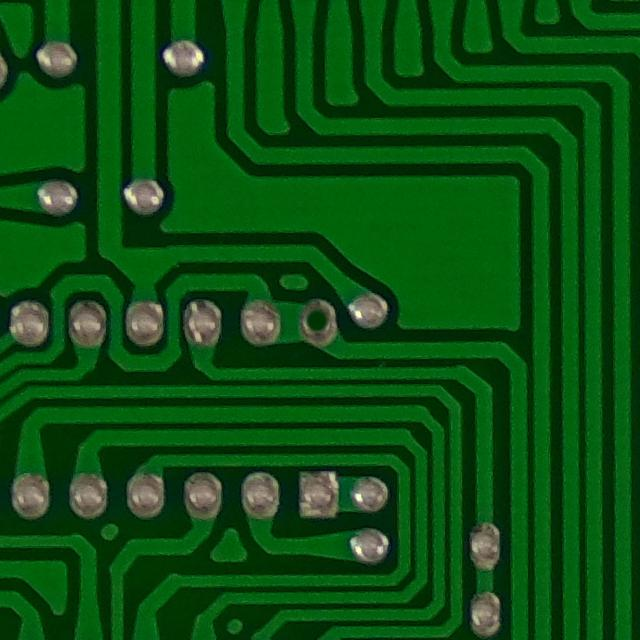missing_hole: (291, 289, 350, 352)
